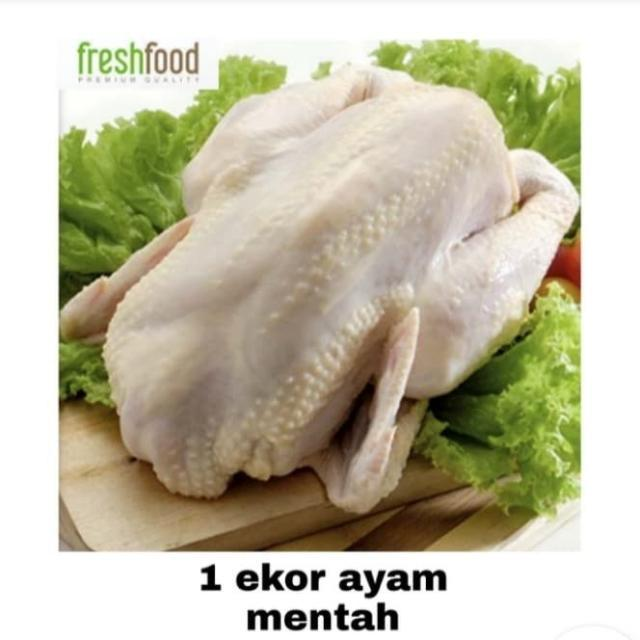Chicken: (67, 60, 584, 534)
